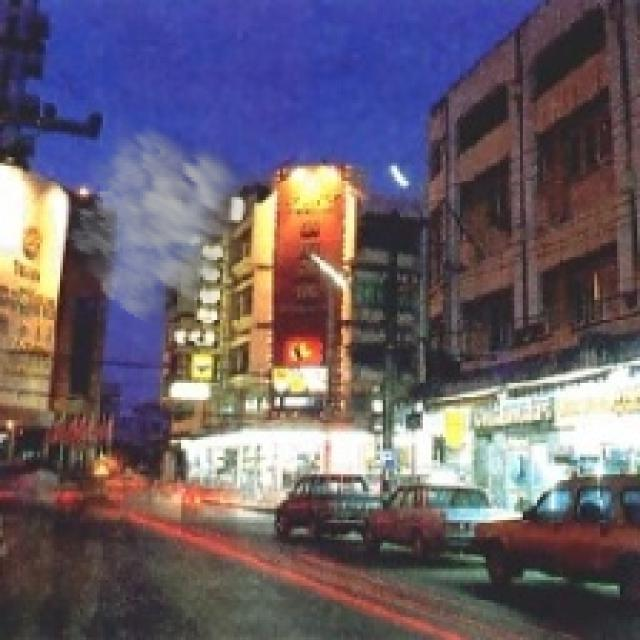smoke: (63, 117, 271, 332)
